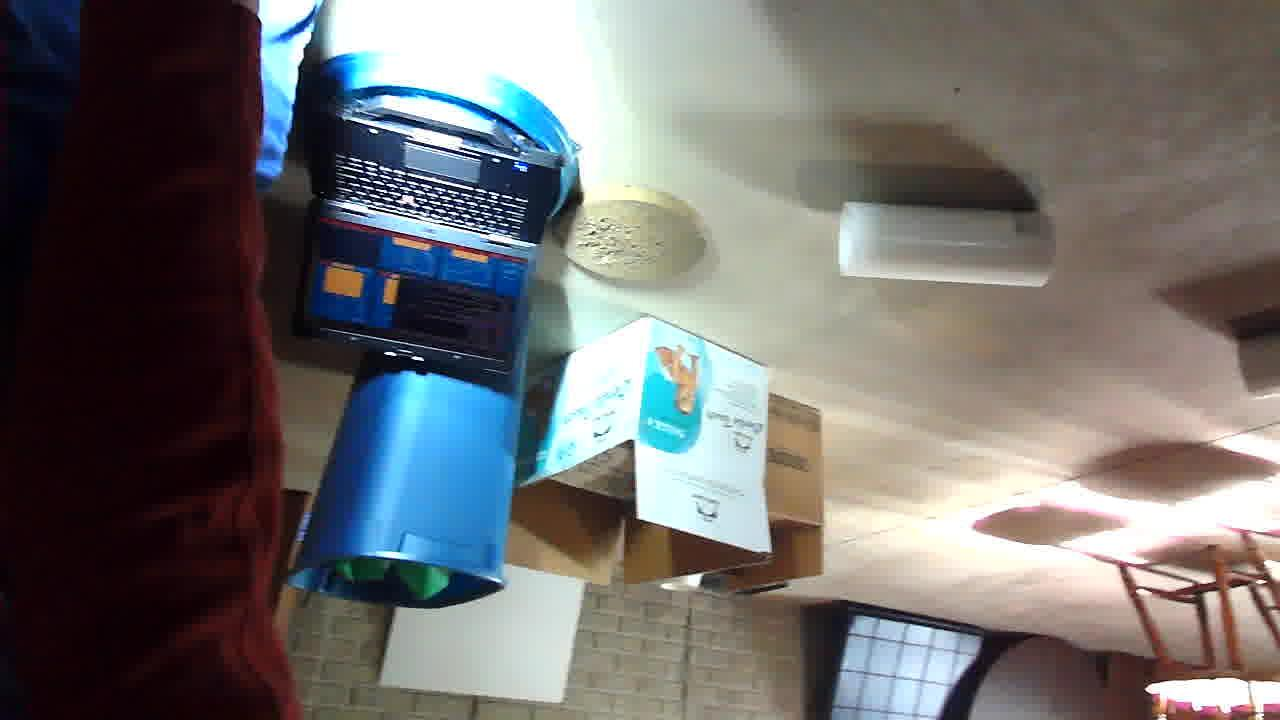coral: (220, 426, 446, 524), (0, 319, 37, 392)
